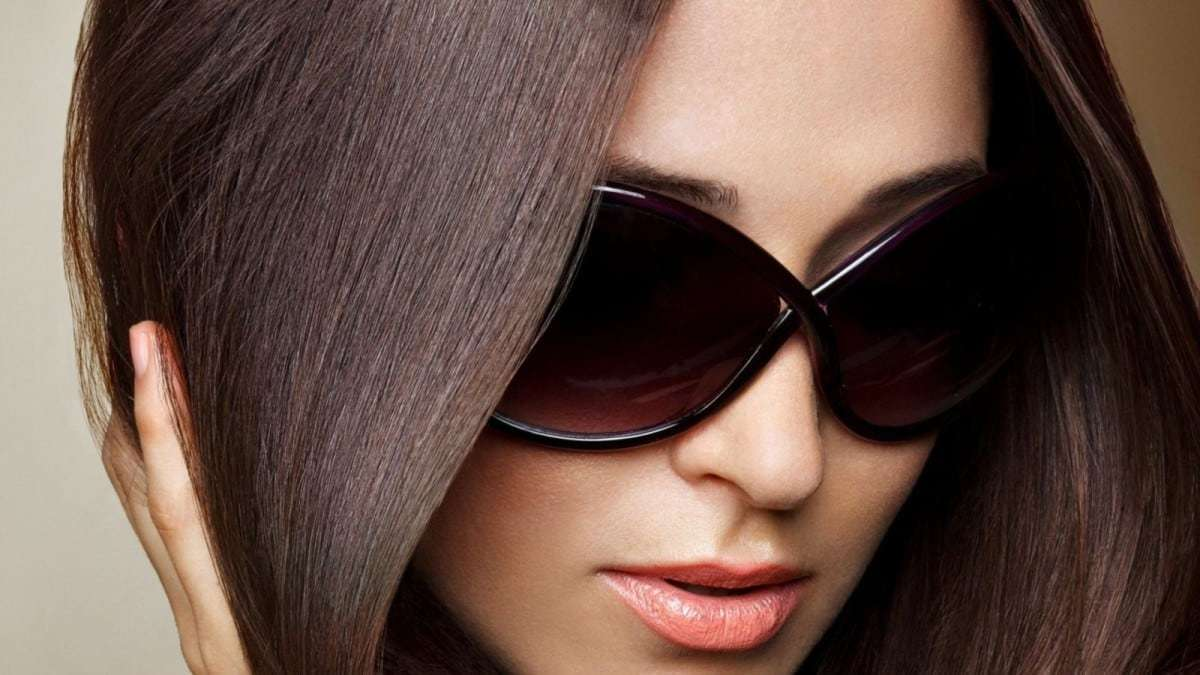glasses: (421, 136, 1047, 481)
